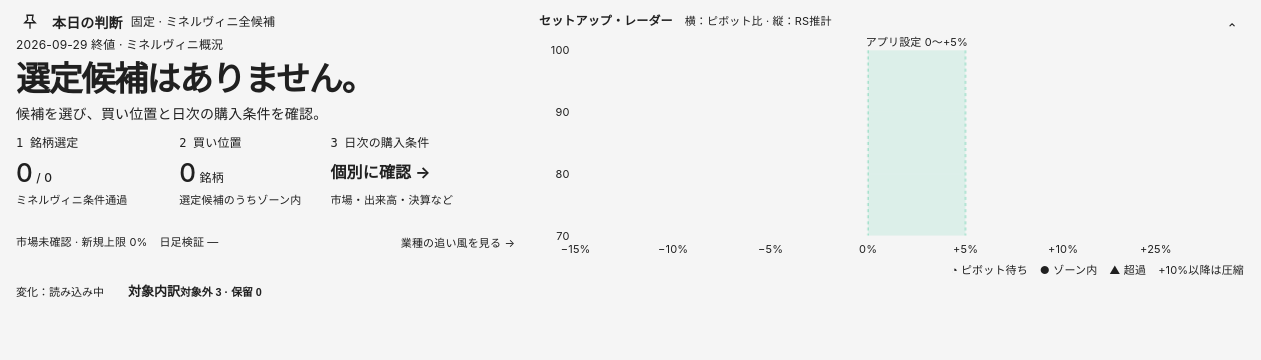
Scenario: keeps the price and financial universes with all verified exclusions in the market summary
Expected: the text "価格・流動性対象 4件" is not shown
Click the button "対象内訳": {"x": 195, "y": 291} [116,269,274,313]
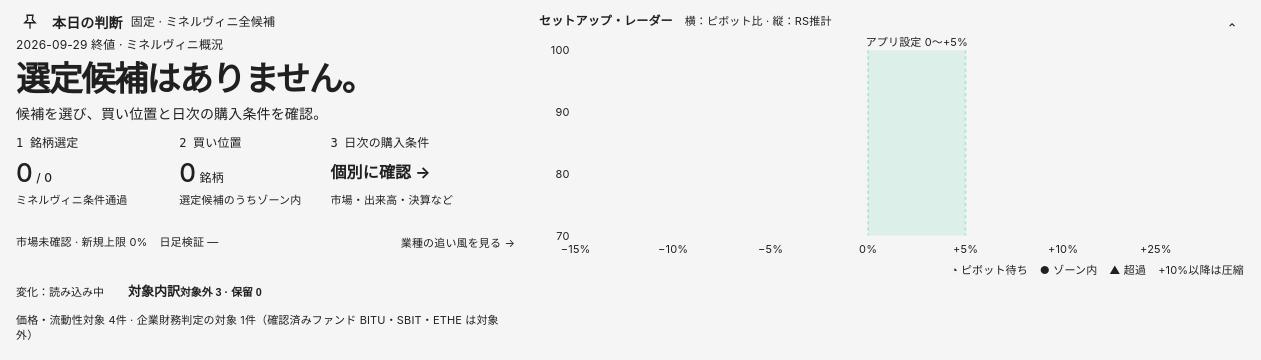
Expected: the text "価格・流動性対象 4件 · 企業財務判定の対象 1件（確認済みファンド BITU・SBIT・ETHE は対象外）" is shown, [16,313,515,344]
Click the button "対象内訳": {"x": 195, "y": 291} [116,269,274,313]
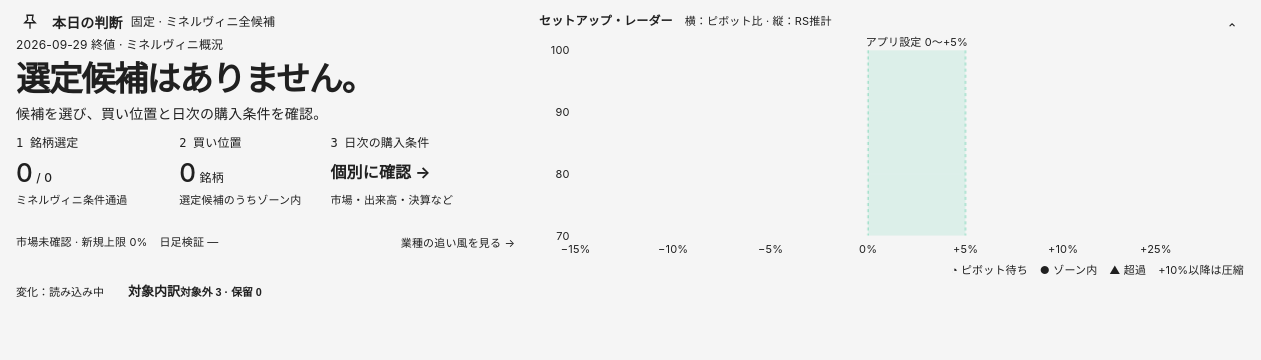
Expected: the link "業種の追い風を見る →" is shown, [401,236,515,250]
Expected: the text "価格・流動性対象 4件" is gone
